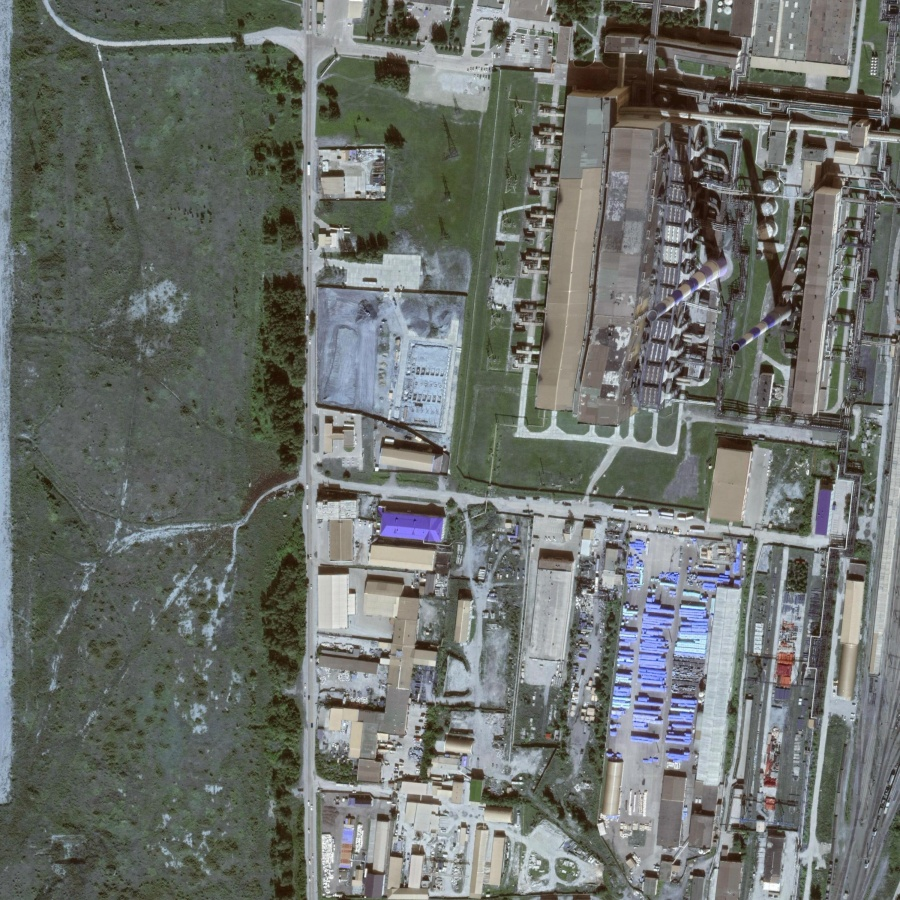PowerPlant: (616, 54, 870, 382)
